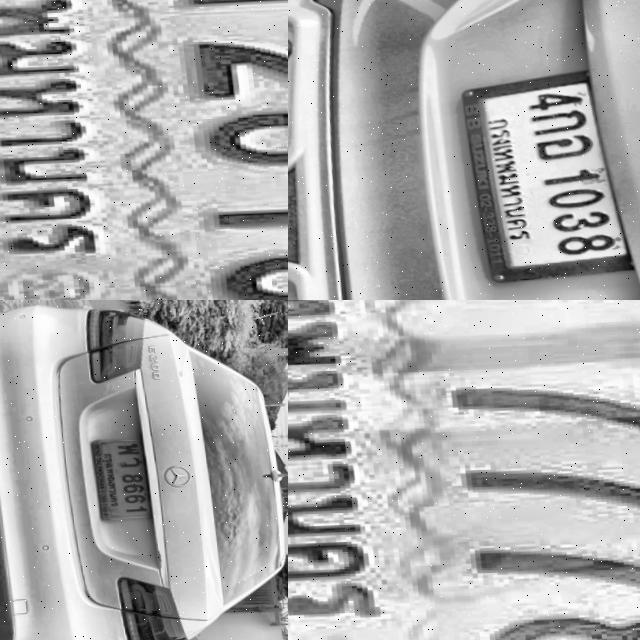license-plate: (288, 300, 640, 640), (0, 0, 288, 300), (445, 69, 633, 286), (83, 440, 151, 520)
